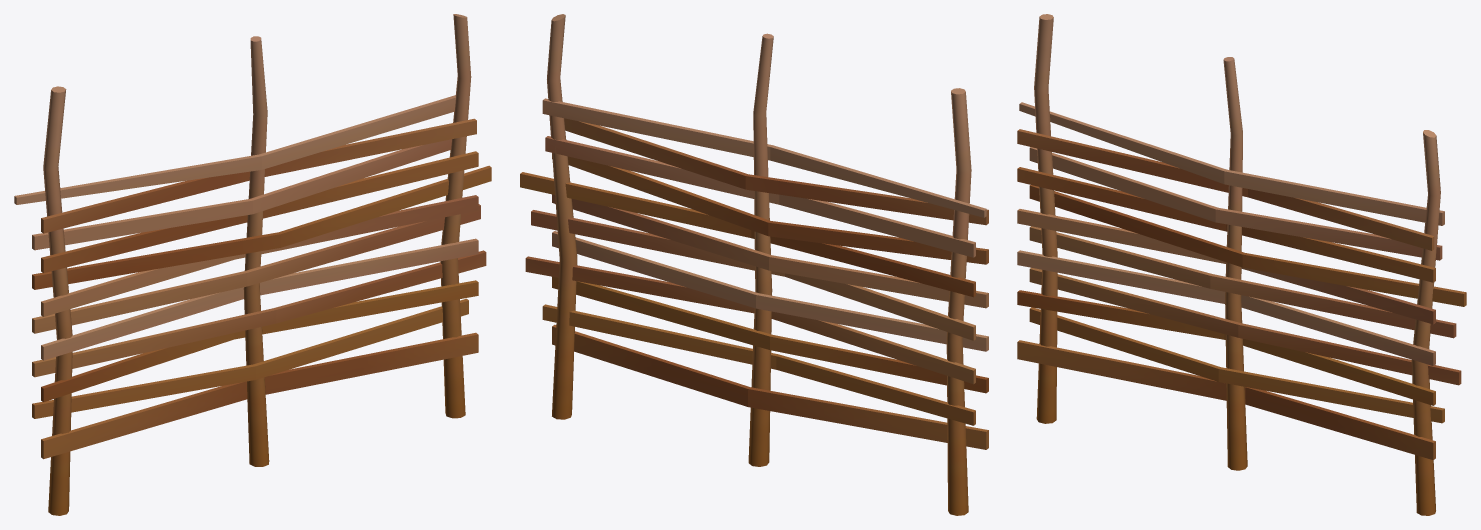
File: SM_Fence_06.fbx
3 renders of one model, left to right at view 1: azimuth 30°, elevation 25°; view 2: azimuth 150°, elevation 25°; view 3: azimuth 330°, elevation 25°, orthographic. The views are drawn at different scales.
Parts seen in each view (by area): view 1: SM_Fence_06; view 2: SM_Fence_06; view 3: SM_Fence_06.
Boxes of the visible parts, x1,y1,x2,y2 form: SM_Fence_06: [14, 14, 491, 515]; SM_Fence_06: [520, 14, 988, 515]; SM_Fence_06: [1017, 14, 1466, 515].
Size of the model in its own units: 62.25 by 54.13 by 4.07.
